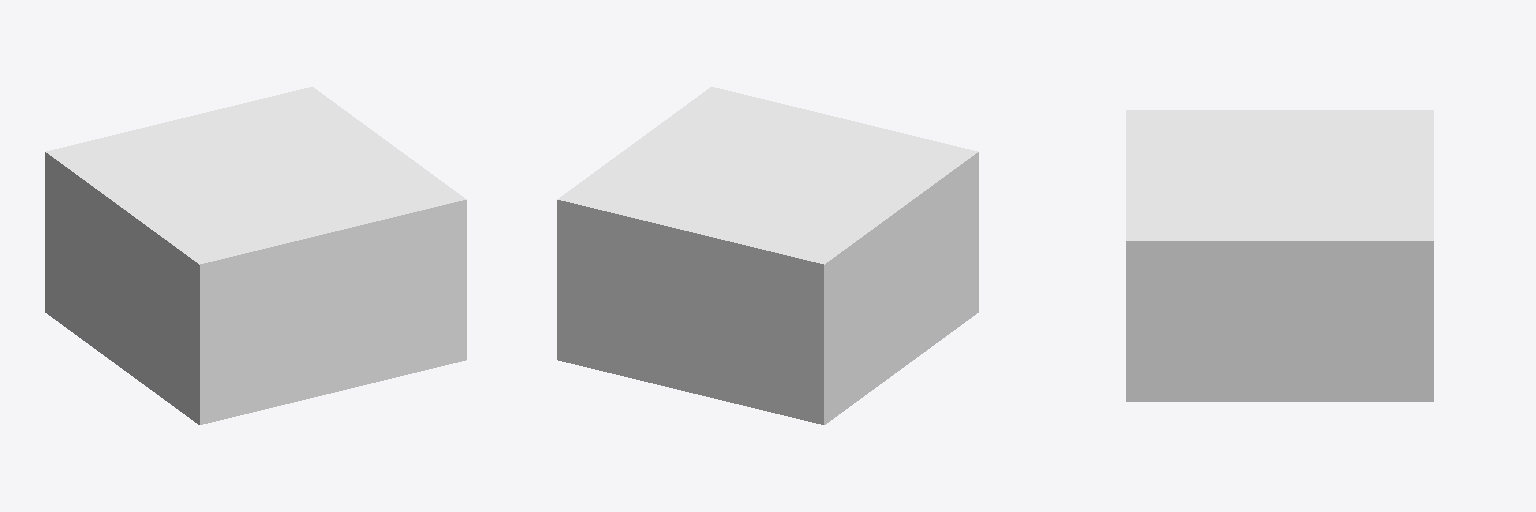
File: alarmClock.obj
3 views of the same model, side by side, from view 1: azimuth 30°, elevation 25°; view 2: azimuth 150°, elevation 25°; view 3: azimuth 270°, elevation 25° (orthographic).
Parts seen in each view (by area): view 1: alarmClock; view 2: alarmClock; view 3: alarmClock.
Boxes of the visible parts, x1,y1,x2,y2 form: alarmClock: [45, 87, 466, 424]; alarmClock: [557, 87, 978, 424]; alarmClock: [1126, 110, 1433, 401].
Size of the model in its own units: 40 by 23 by 40.